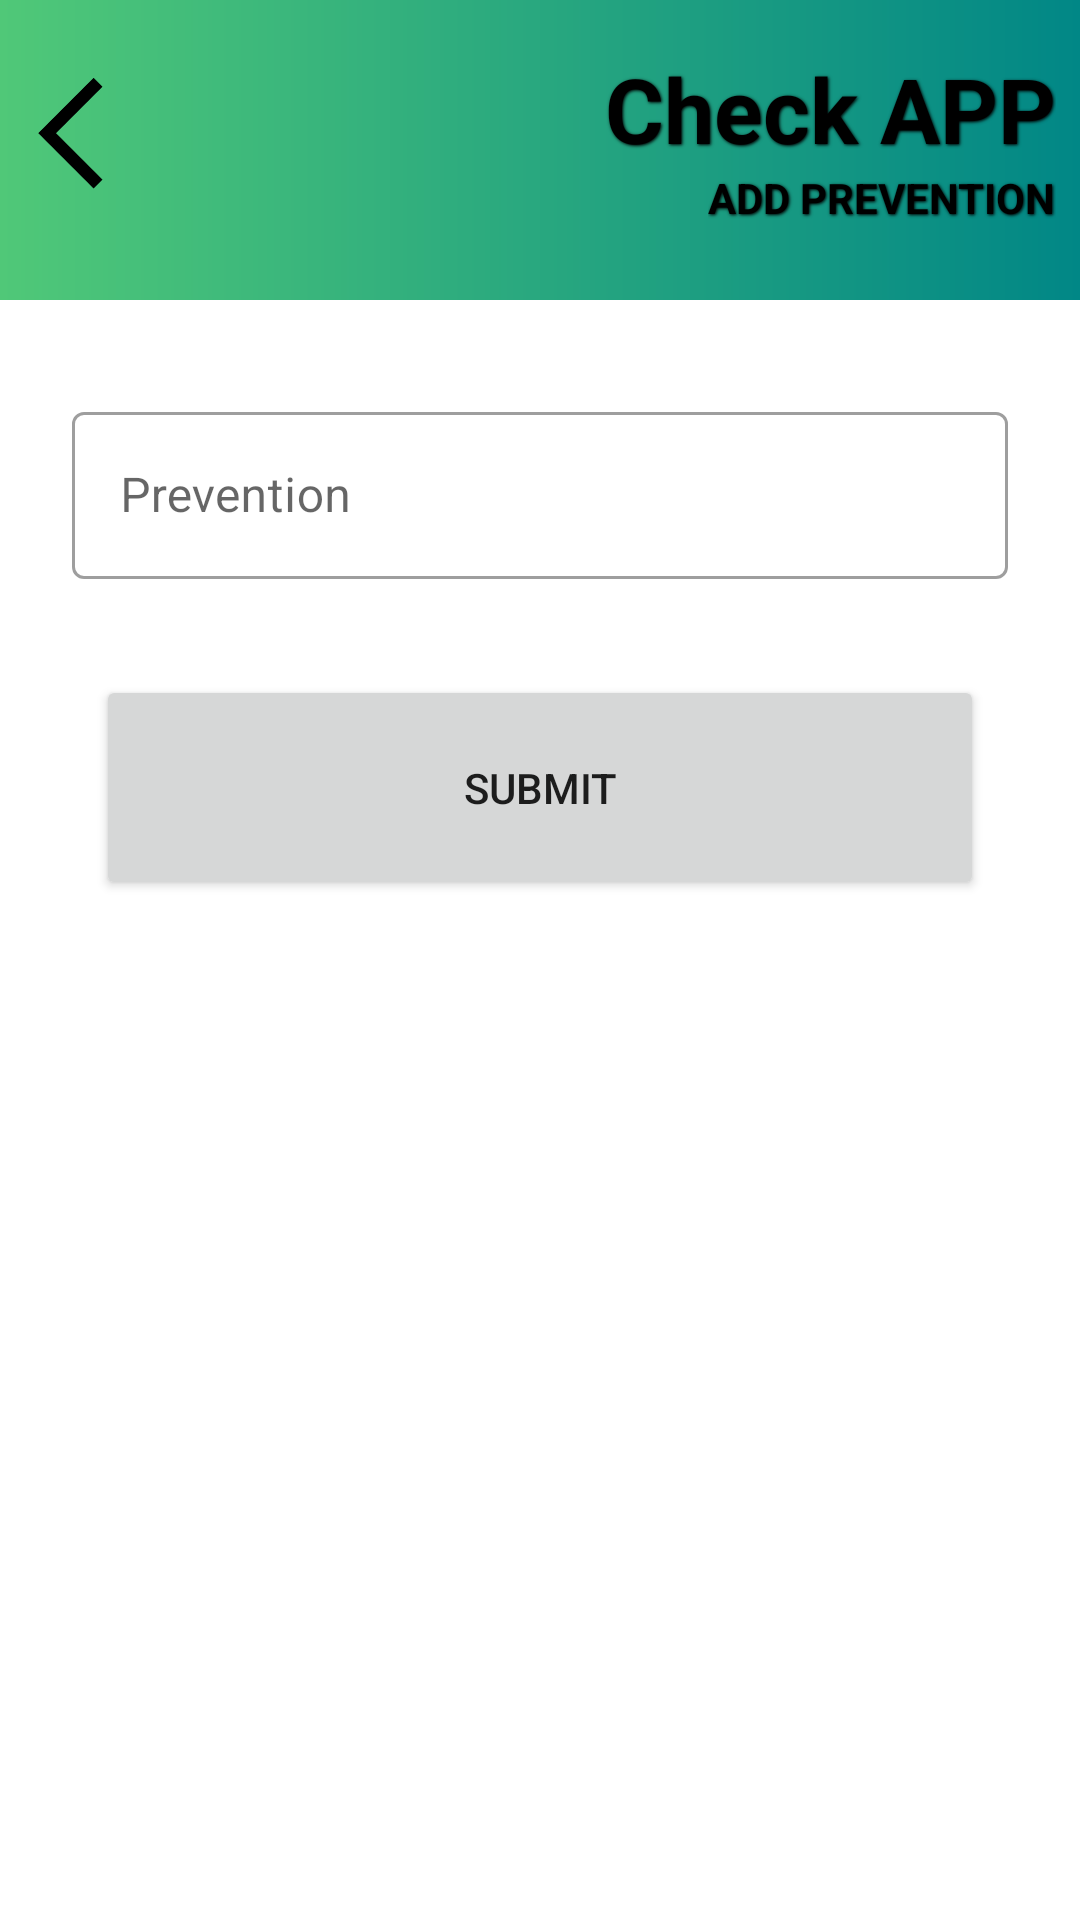

Icons on this 1080*1920 Android screen, each with its box as [x1, y1, x2, y2]:
backbutton: [38, 78, 103, 189]
